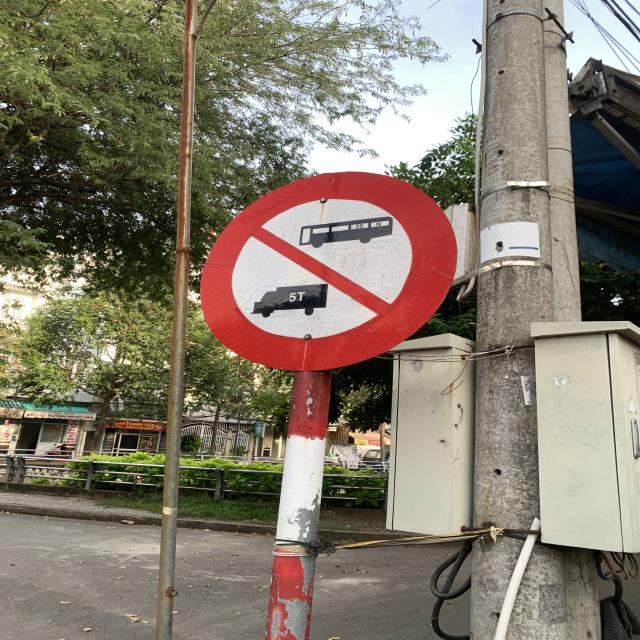Cam_XeTai_XeKhach: (198, 172, 457, 372)
